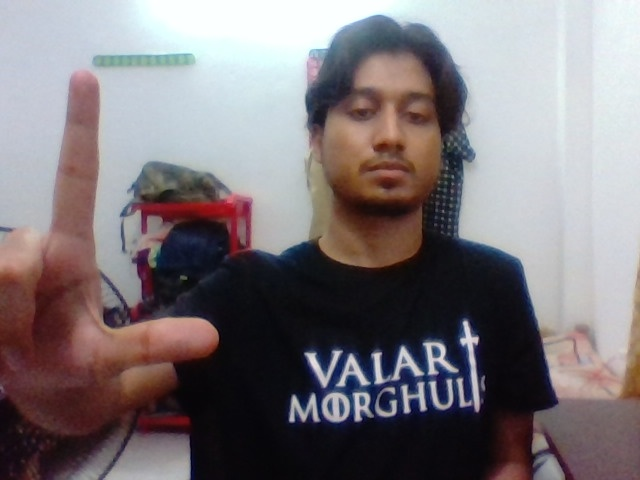L: (27, 62, 230, 385)
